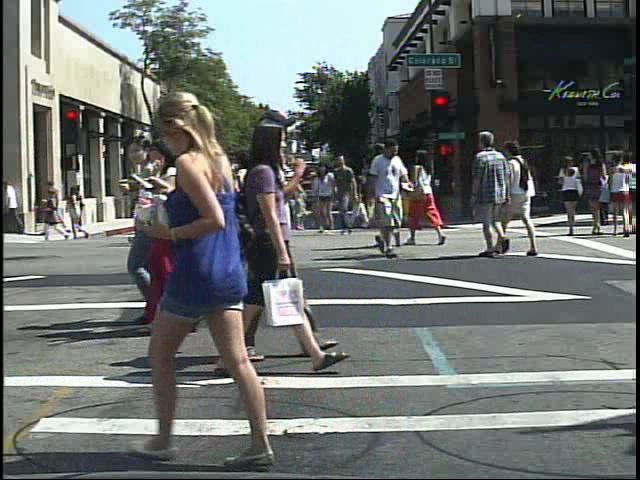person: (135, 79, 316, 476), (196, 119, 345, 381), (132, 133, 227, 343), (261, 105, 331, 366), (121, 130, 171, 332), (368, 133, 415, 260), (470, 127, 513, 264), (367, 134, 408, 252), (236, 150, 278, 261), (197, 143, 237, 259), (267, 147, 311, 251), (505, 133, 541, 258), (407, 143, 446, 249), (227, 149, 264, 253), (198, 152, 236, 252), (556, 151, 588, 238), (172, 171, 192, 240), (67, 182, 87, 232)
